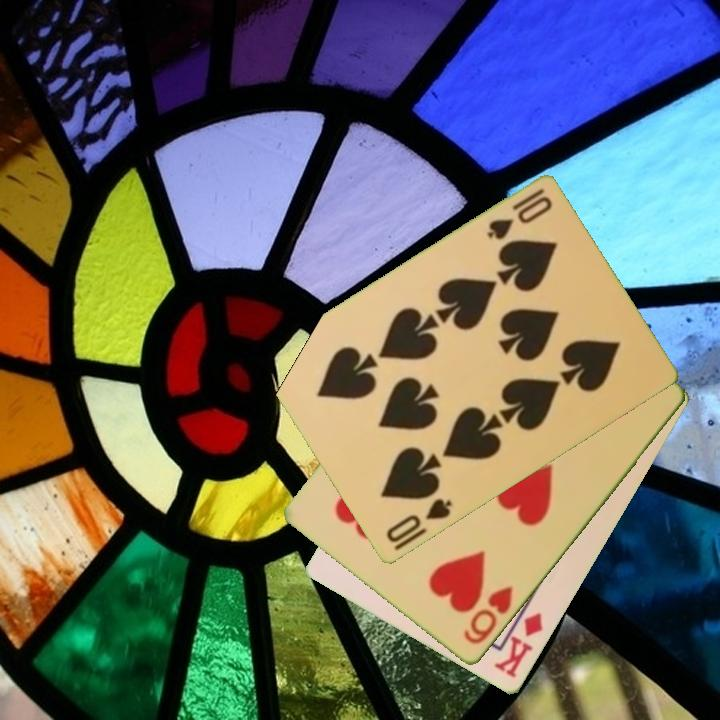10s: (483, 185, 555, 244), (382, 495, 455, 547)
6h: (460, 582, 516, 648)
Kd: (491, 599, 546, 682)
